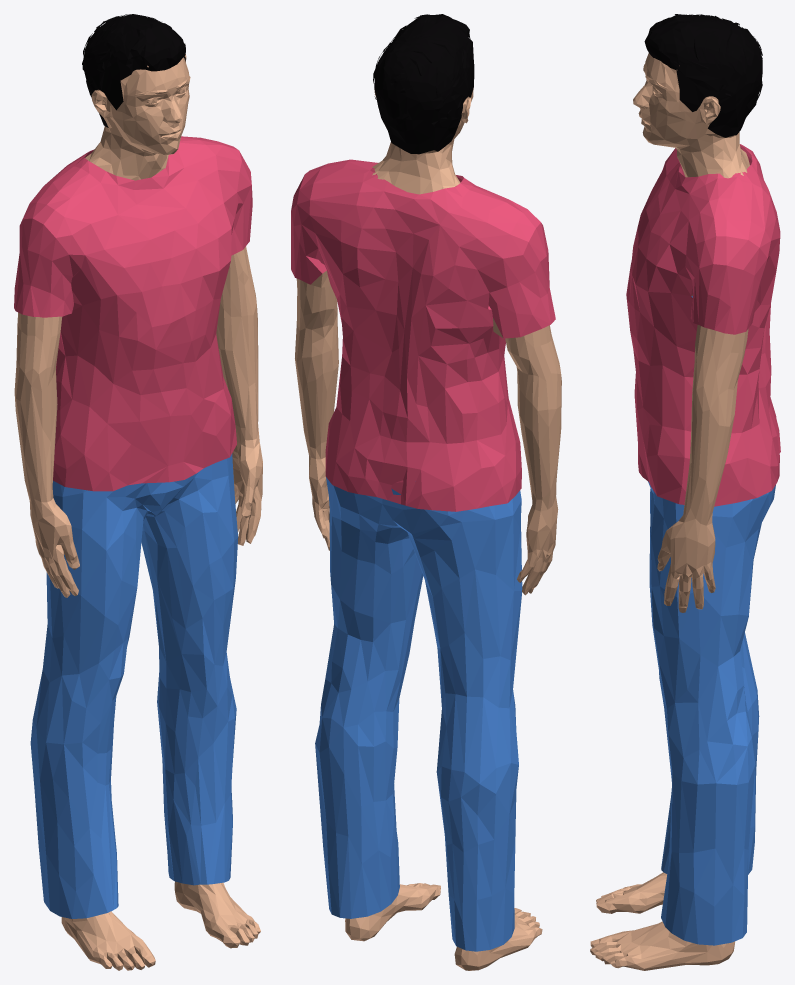
The model's file is person_standing2.dae.
3 views of the same model, side by side, from view 1: azimuth 30°, elevation 25°; view 2: azimuth 150°, elevation 25°; view 3: azimuth 270°, elevation 25° (orthographic).
Parts seen in each view (by area): view 1: Person Standing Simple; view 2: Person Standing Simple; view 3: Person Standing Simple.
Part boxes in pixels (box(x1,y1,x2,y2)): Person Standing Simple: box(14, 14, 262, 970); Person Standing Simple: box(291, 14, 561, 970); Person Standing Simple: box(590, 14, 780, 970).
Bounding box in the file's own units: 0.5442 × 0.362 × 1.92.
